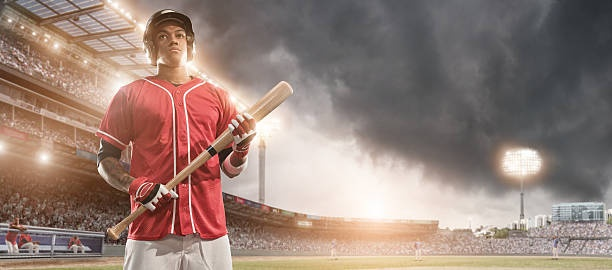bita: (106, 81, 290, 238)
